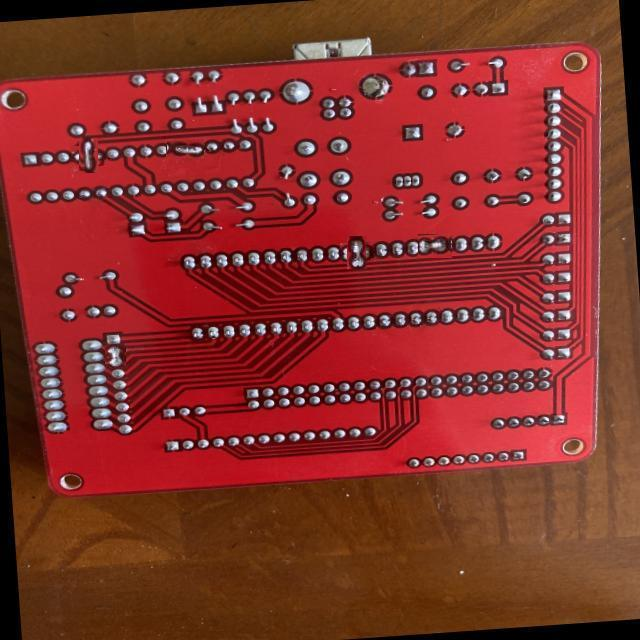damged: (418, 234, 452, 258), (75, 142, 102, 170), (166, 139, 204, 158), (344, 239, 370, 266), (104, 344, 126, 368)
